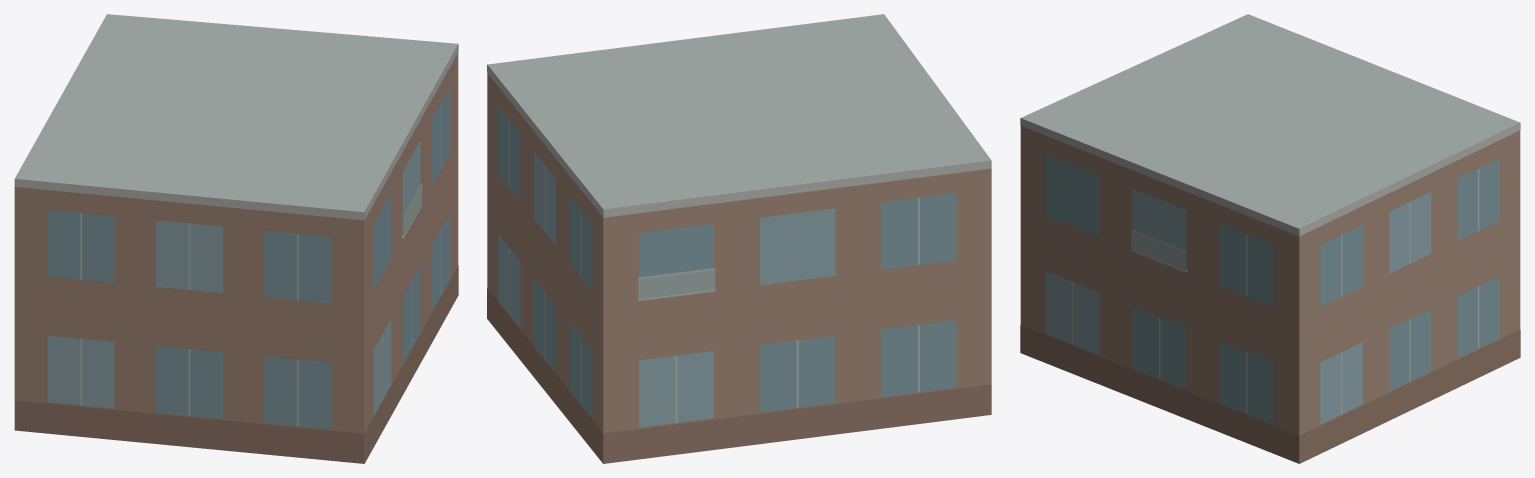
File: survey-upis-32883271.glb
3 views of the same model, side by side, from view 1: azimuth 30°, elevation 25°; view 2: azimuth 150°, elevation 25°; view 3: azimuth 270°, elevation 25° (orthographic). The views are drawn at different scales.
Parts seen in each view (by area): view 1: survey-upis-32883271.tmp; view 2: survey-upis-32883271.tmp; view 3: survey-upis-32883271.tmp.
Boxes of the visible parts, x1,y1,x2,y2 form: survey-upis-32883271.tmp: [14, 14, 458, 463]; survey-upis-32883271.tmp: [487, 14, 991, 463]; survey-upis-32883271.tmp: [1020, 14, 1520, 463].
Size of the model in its own units: 14.91 by 7.6 by 14.66.
